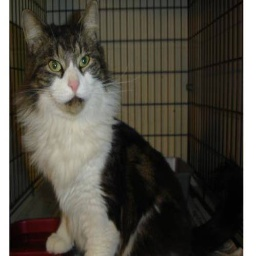cat: (14, 0, 213, 256)
